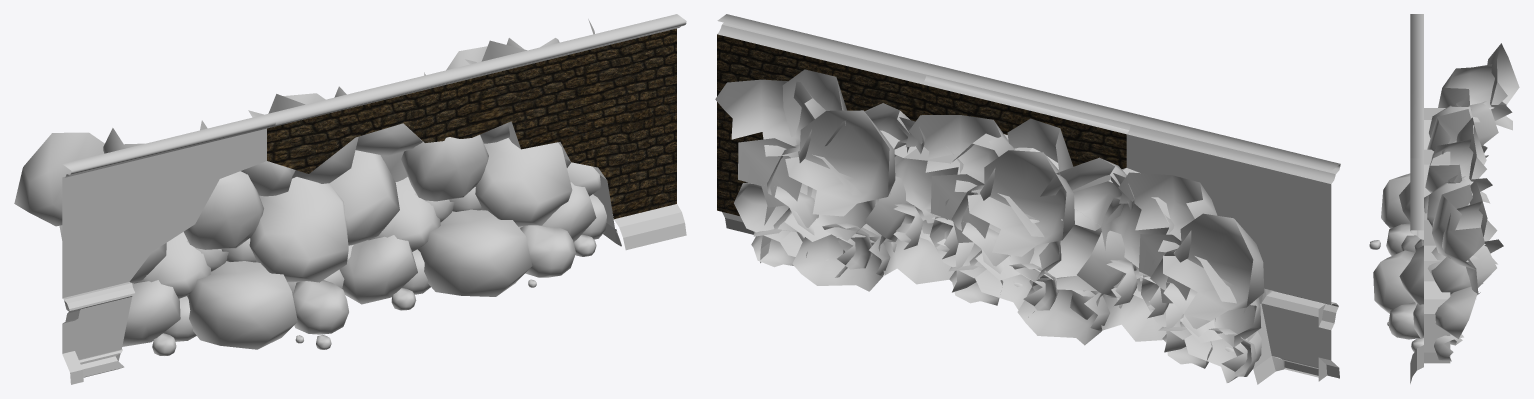
File: default_worn_3x1_broken.dae
3 renders of one model, left to right at view 1: azimuth 30°, elevation 25°; view 2: azimuth 150°, elevation 25°; view 3: azimuth 270°, elevation 25°, orthographic. The views are drawn at different scales.
Parts seen in each view (by area): view 1: polySurface68, polySurface124, polySurface21, polySurface123, polySurface24; view 2: polySurface68, polySurface21, polySurface124, polySurface123, polySurface24; view 3: polySurface68, polySurface24, polySurface123, polySurface21.
Part boxes in pixels (box(x1,y1,x2,y2)): polySurface68: box(14, 19, 606, 355); polySurface124: box(267, 28, 676, 219); polySurface21: box(62, 114, 276, 384); polySurface123: box(267, 14, 686, 250); polySurface24: box(115, 121, 621, 360); polySurface68: box(715, 69, 1264, 382); polySurface21: box(1126, 114, 1340, 381); polySurface124: box(717, 34, 1126, 215); polySurface123: box(717, 14, 1135, 234); polySurface24: box(760, 130, 1284, 384); polySurface68: box(1369, 43, 1519, 361); polySurface24: box(1424, 108, 1450, 363); polySurface123: box(1410, 86, 1423, 383); polySurface21: box(1410, 14, 1423, 85).
Size of what is drawn, in the model's own units: 1200 by 401 by 352.
